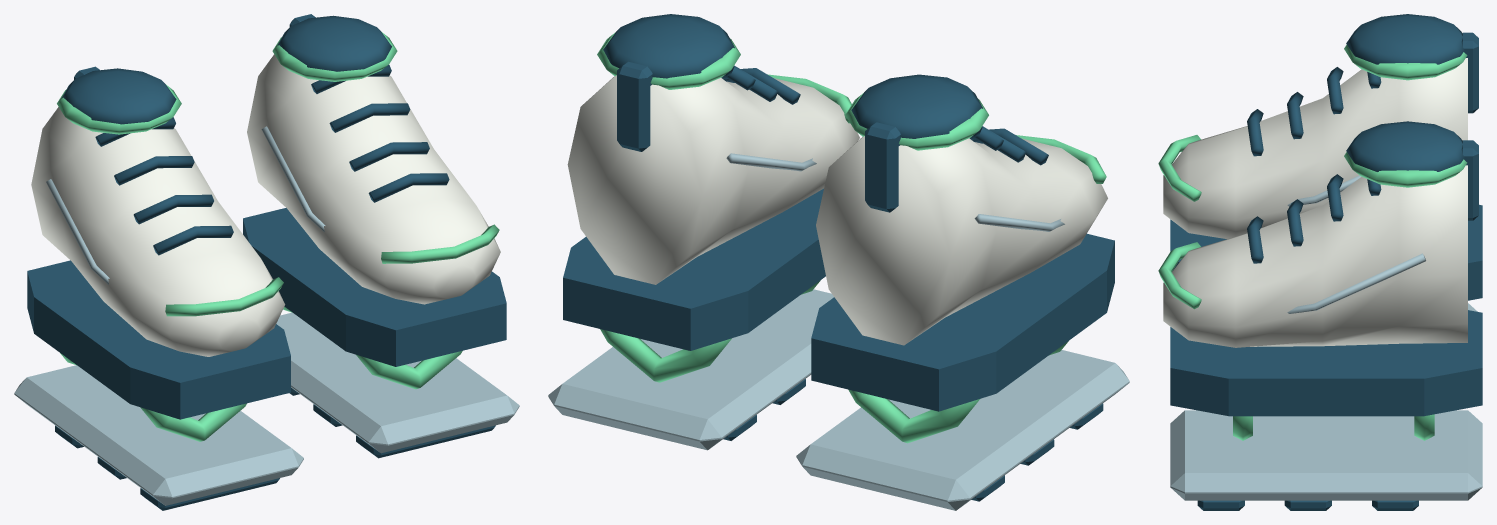
File: boots.glb
3 views of the same model, side by side, from view 1: azimuth 30°, elevation 25°; view 2: azimuth 150°, elevation 25°; view 3: azimuth 270°, elevation 25° (orthographic). The views are drawn at different scales.
Parts seen in each view (by area): view 1: Coastal club | boots; view 2: Coastal club | boots; view 3: Coastal club | boots.
Boxes of the visible parts, x1,y1,x2,y2 form: Coastal club | boots: [14, 14, 519, 510]; Coastal club | boots: [548, 14, 1129, 510]; Coastal club | boots: [1158, 14, 1482, 510].
Bounding box in the file's own units: 0.6 × 0.5305 × 0.4466.
